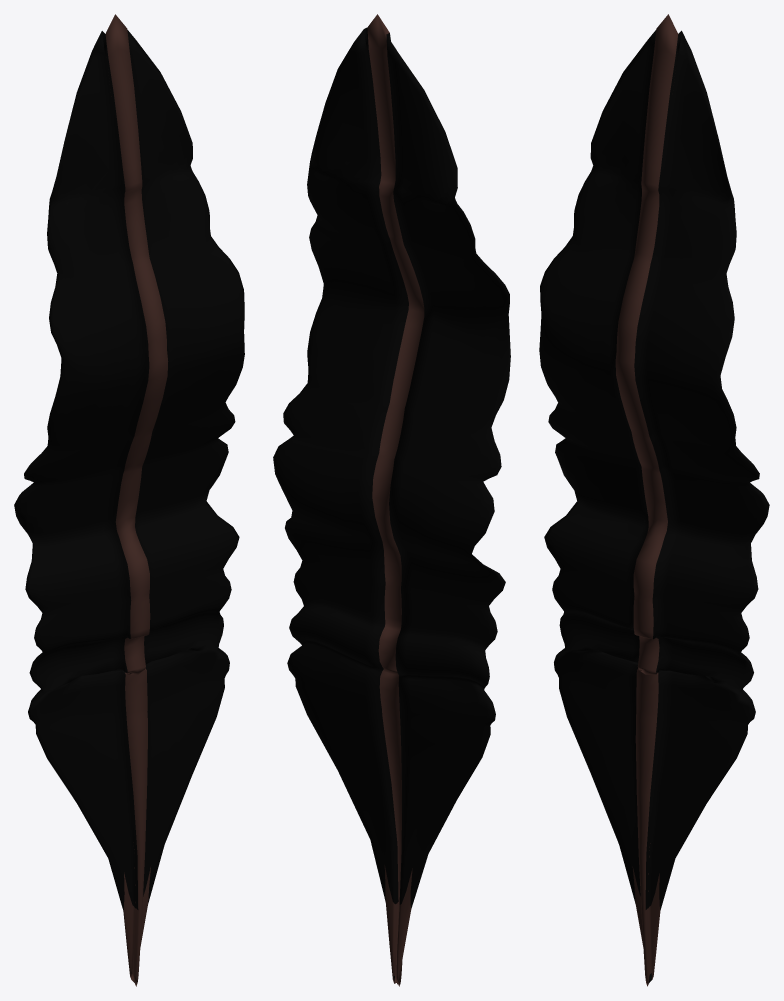
File: Feather.fbx
3 renders of one model, left to right at view 1: azimuth 30°, elevation 25°; view 2: azimuth 150°, elevation 25°; view 3: azimuth 330°, elevation 25°, orthographic. The views are drawn at different scales.
Parts seen in each view (by area): view 1: Cube; view 2: Cube; view 3: Cube.
Part boxes in pixels (x1=…): Cube: x1=14, y1=14, x2=244, y2=986; Cube: x1=273, y1=14, x2=510, y2=986; Cube: x1=539, y1=14, x2=769, y2=986.
Size of the model in its own units: 11.41 by 48.64 by 4.22.
